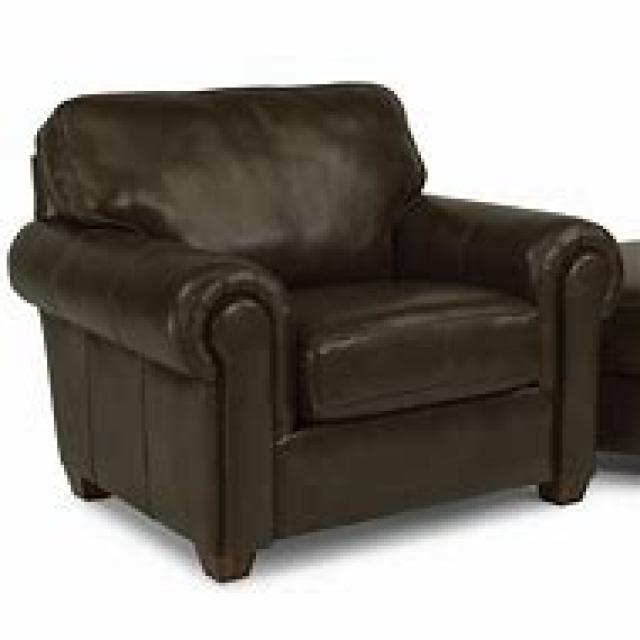chair: (7, 77, 623, 583)
